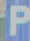Parking: (7, 3, 29, 38)
